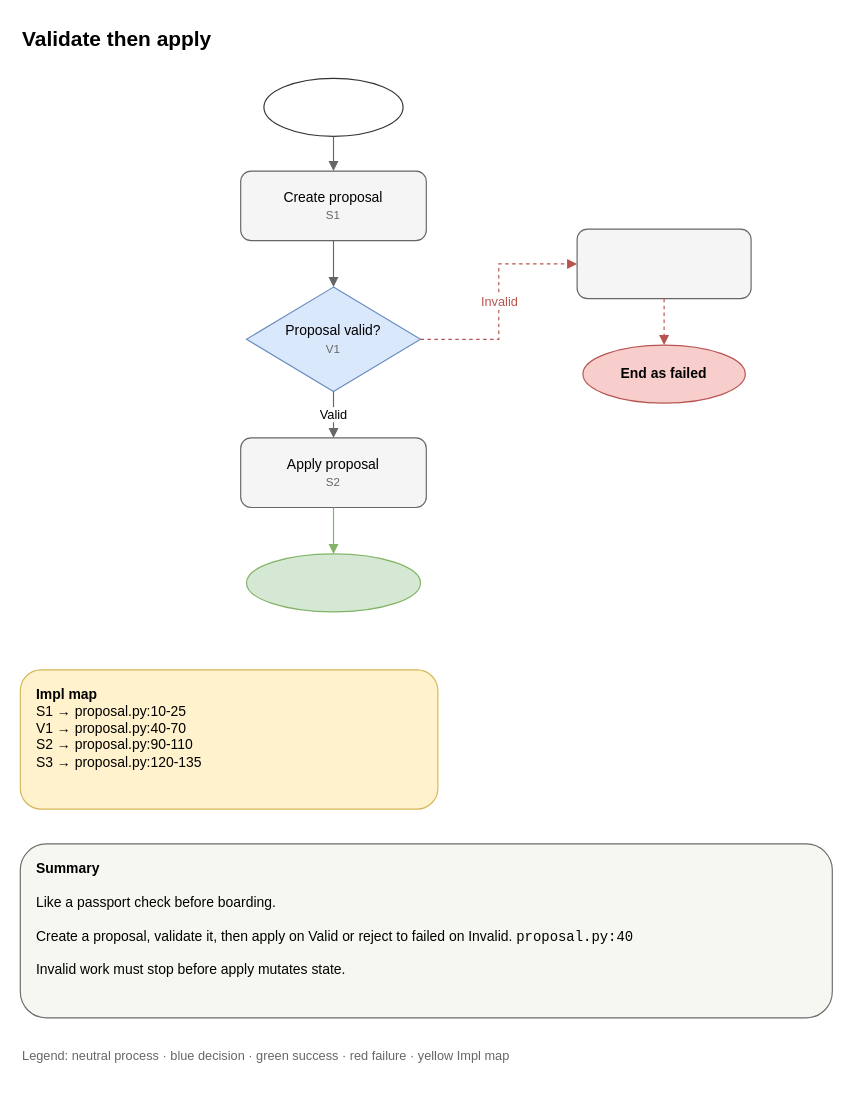
Some shapes in this 853 by 1095 pixel diagram are drawn without their labels. Each missing label, with the centre of its shape:
"End as successful" goes at point 332,582.
"Reject proposal S3" goes at point 663,263.
"Start" goes at point 333,106.
